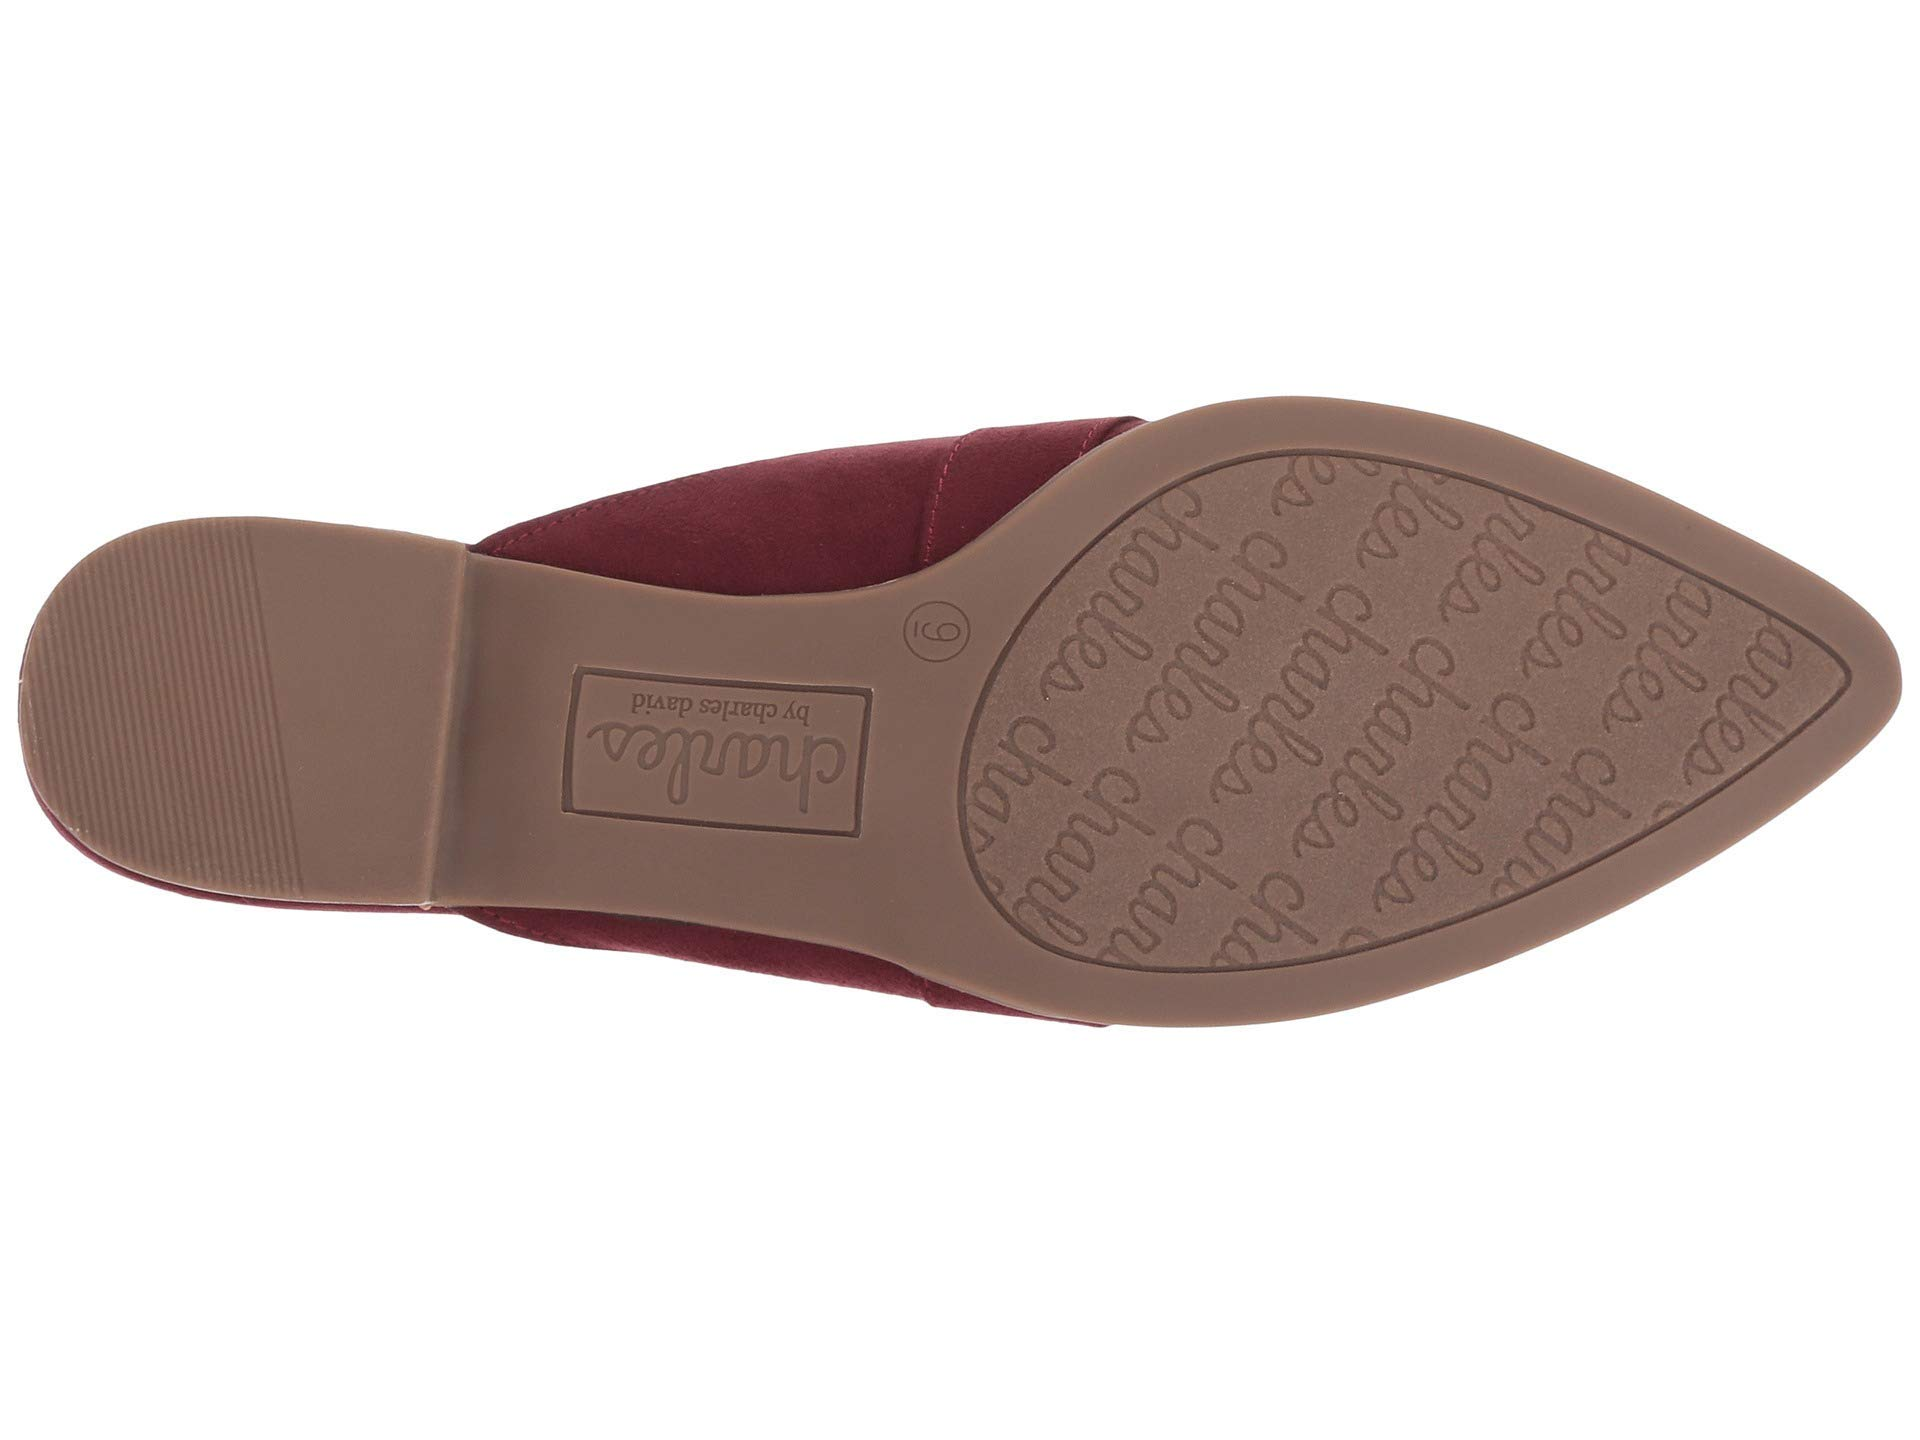circle: (906, 585, 1001, 679)
line: (77, 567, 299, 877)
quad: (529, 596, 906, 867)
text: (1160, 476, 1646, 918), (529, 596, 906, 867), (906, 585, 1001, 679)
